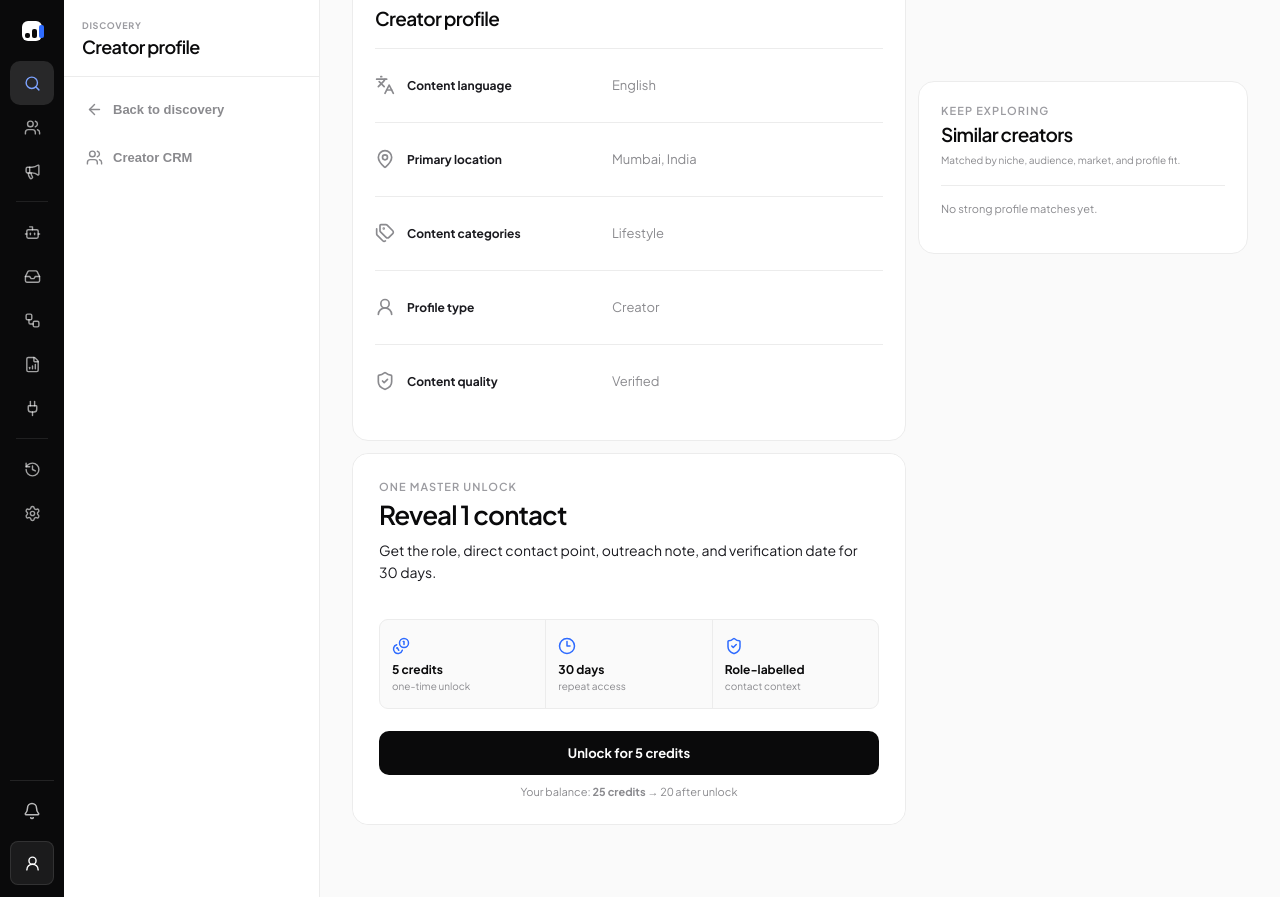
Creatorly connected Convex provider journeys › unlocks through the Convex provider, decrements the balance, and reveals contacts
(page scrolled)
What coordinates should you click on to do the following:
click the button "Unlock for 5 credits"
I would click on:
 (629, 754)
Its box is [379,732,879,776].
(page scrolled)
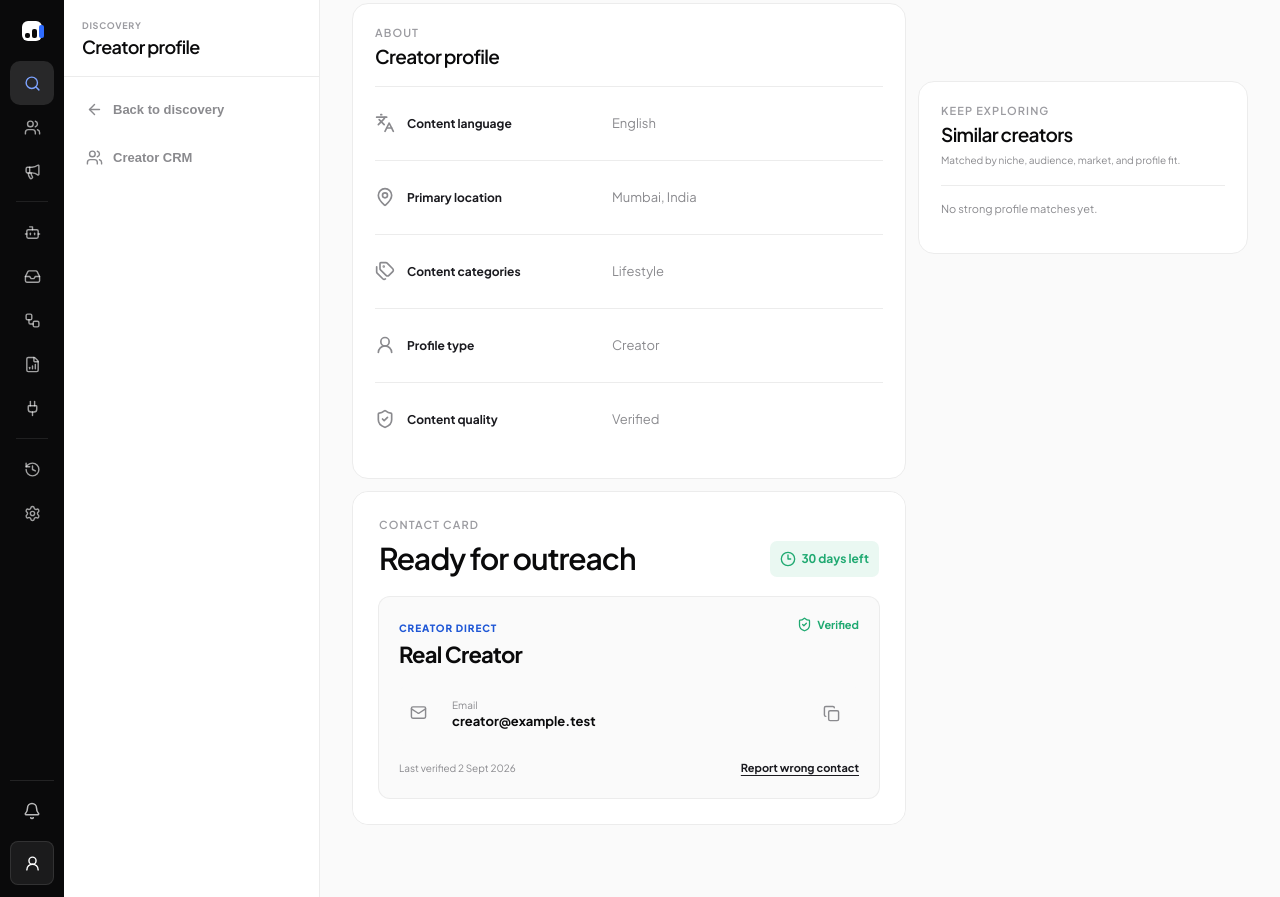
Now the link "creator@example.test" is shown, box [452,713,596,729]
